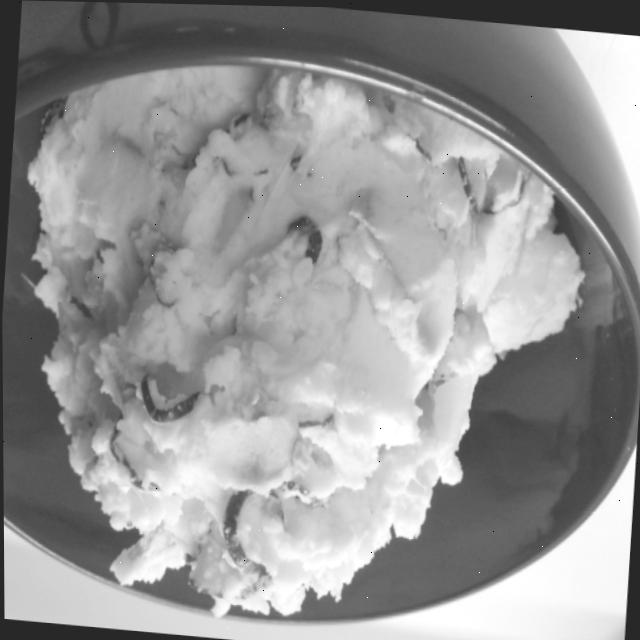蔬菜料理: (0, 55, 640, 640)
